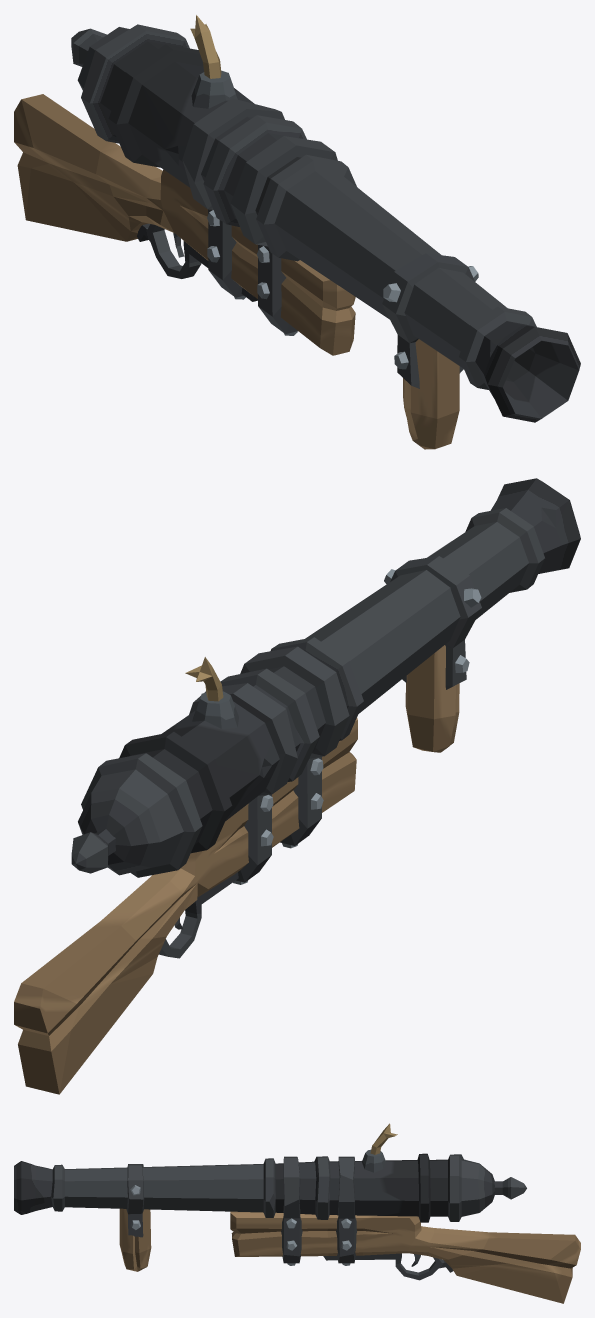
The model's file is SM_Wep_Rifle_03.fbx.
3 views of the same model, one above another, from view 1: azimuth 30°, elevation 25°; view 2: azimuth 150°, elevation 25°; view 3: azimuth 270°, elevation 25° (orthographic). The views are drawn at different scales.
Visible parts, largest first — view 1: SM_Wep_Rifle_03; view 2: SM_Wep_Rifle_03; view 3: SM_Wep_Rifle_03.
Part boxes in pixels (bbox=[...]): SM_Wep_Rifle_03: bbox=[14, 15, 580, 449]; SM_Wep_Rifle_03: bbox=[14, 478, 580, 1094]; SM_Wep_Rifle_03: bbox=[14, 1123, 580, 1303].
Size of the model in its own units: 14.77 by 38.97 by 114.
